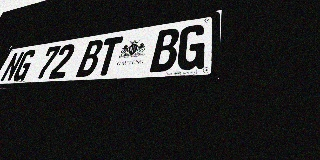2: (48, 43, 77, 79)
7: (34, 45, 61, 80)
B: (149, 27, 180, 72), (75, 39, 105, 77)
G: (175, 23, 207, 71), (11, 49, 38, 81)
N: (0, 51, 25, 82)
T: (94, 36, 124, 76)
